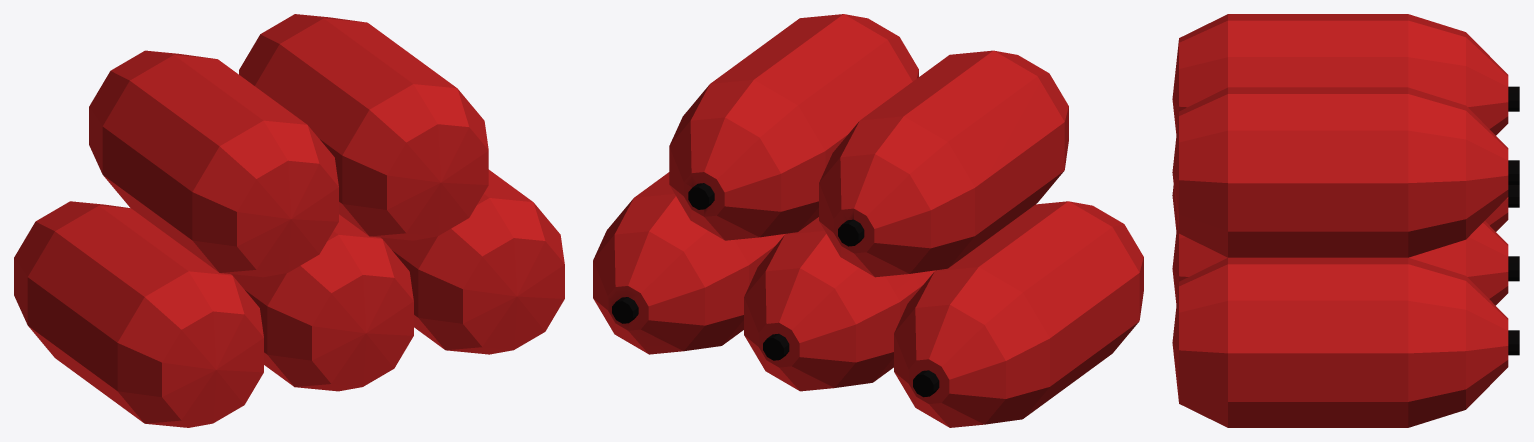
Rendered from SM_ware03.FBX.
3 renders of one model, left to right at view 1: azimuth 30°, elevation 25°; view 2: azimuth 150°, elevation 25°; view 3: azimuth 270°, elevation 25°, orthographic.
Visible parts, largest first — view 1: ware03; view 2: ware03; view 3: ware03.
Boxes of the visible parts, x1=… form: ware03: x1=14, y1=14, x2=564, y2=427; ware03: x1=593, y1=14, x2=1143, y2=427; ware03: x1=1172, y1=14, x2=1519, y2=427.
Size of the model in its own units: 88.82 by 55.36 by 60.
